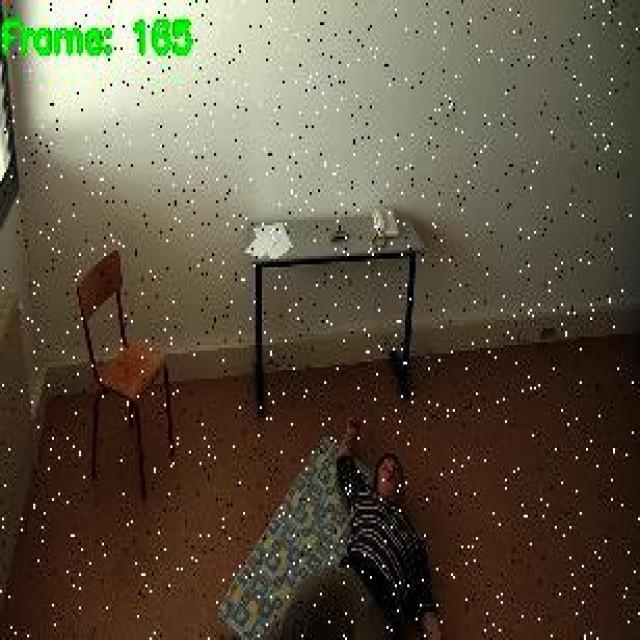fall: (241, 414, 464, 638)
